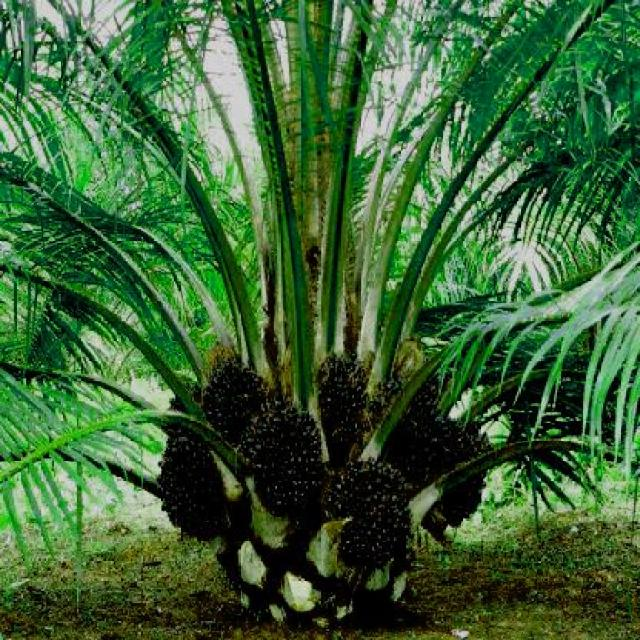palm-oil: (157, 430, 229, 540), (250, 415, 326, 514), (331, 471, 409, 561), (390, 373, 444, 493), (441, 426, 502, 529), (316, 359, 369, 453), (208, 360, 266, 439)
